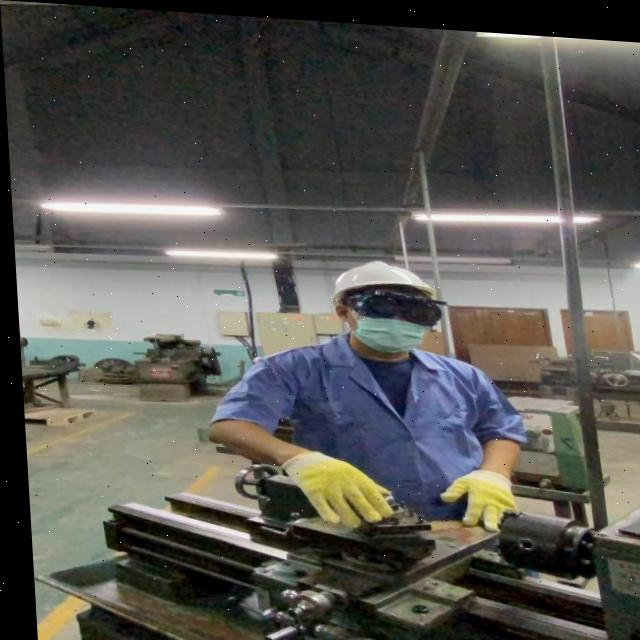Gloves: (275, 444, 389, 526), (433, 460, 514, 527)
Helmet: (328, 252, 436, 308)
Safety-Vest: (283, 325, 480, 518)
